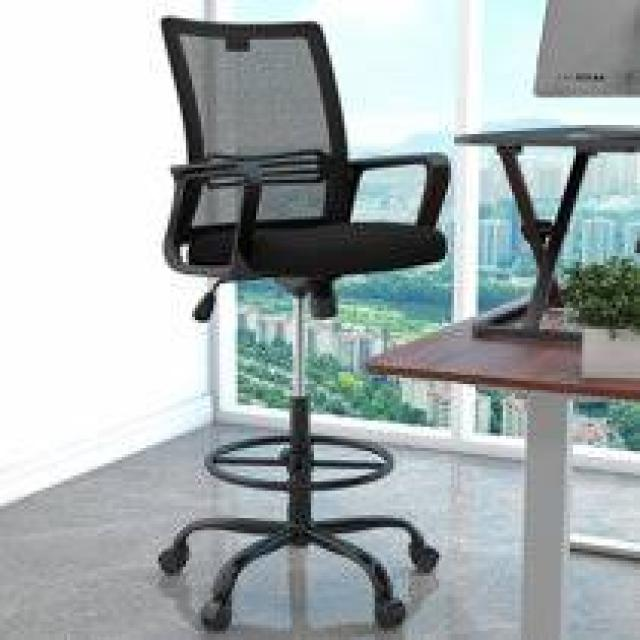chair: (61, 0, 560, 640)
